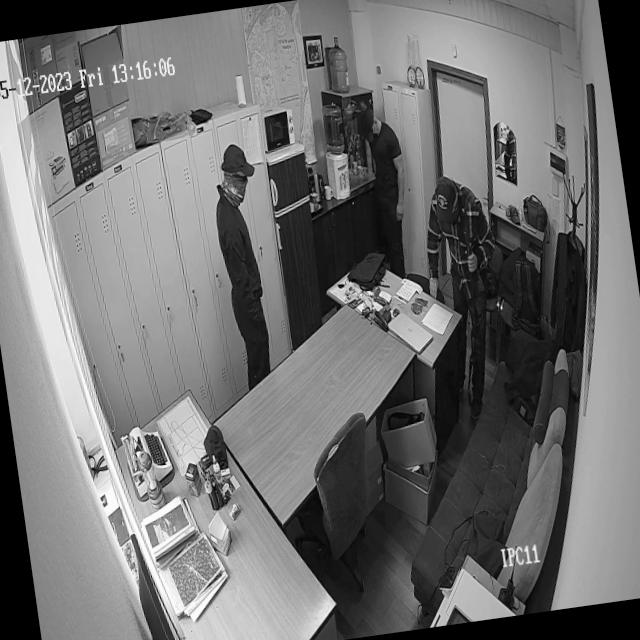gun: (458, 220, 494, 338)
person: (205, 146, 284, 388), (356, 103, 420, 274)
person with a gun: (414, 173, 520, 430)
